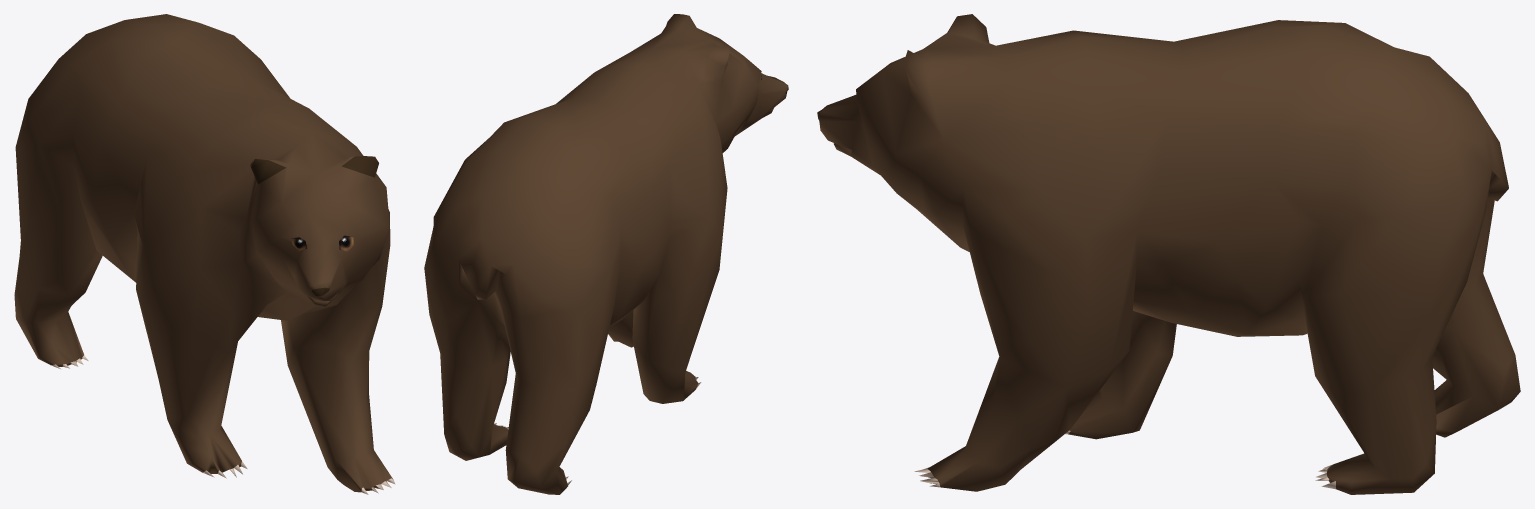
3 renders of one model, left to right at view 1: azimuth 30°, elevation 25°; view 2: azimuth 150°, elevation 25°; view 3: azimuth 270°, elevation 25°, orthographic. The views are drawn at different scales.
Parts seen in each view (by area): view 1: Bear03; view 2: Bear03; view 3: Bear03.
Part boxes in pixels (x1,y1,x2,y2): Bear03: [14, 14, 395, 494]; Bear03: [424, 14, 788, 494]; Bear03: [817, 14, 1520, 494].
Size of what is drawn, in the model's own units: 0.8298 by 1.4 by 2.1.
1 material, 1 textured.
